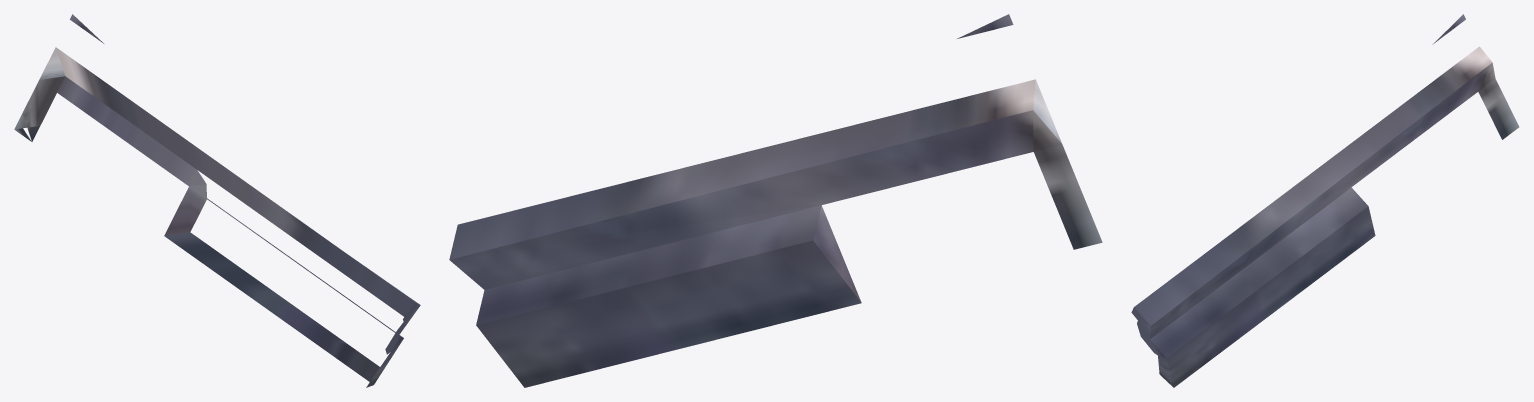
The picture shows the model from 3 angles, left to right: view 1: azimuth 30°, elevation 25°; view 2: azimuth 210°, elevation 25°; view 3: azimuth 270°, elevation 25°; orthographic projection. The views are drawn at different scales.
Size of the model in its own units: 5.23 by 6.84 by 8.05.
Materials: 1 (1 with a texture image).
